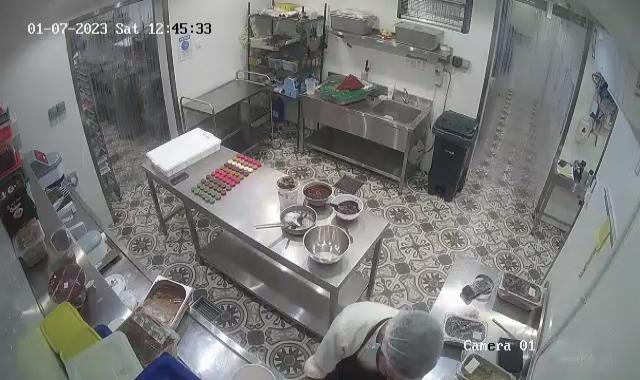hairnet: (380, 310, 445, 378)
